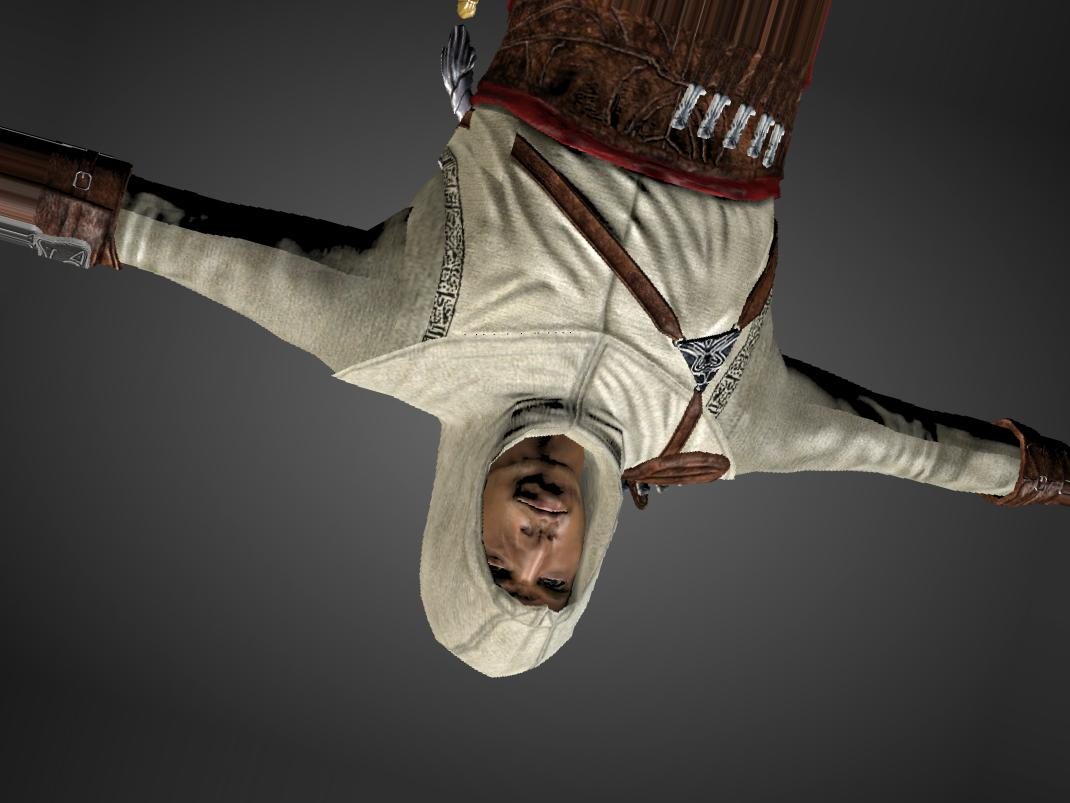clip: (461, 101, 526, 164)
